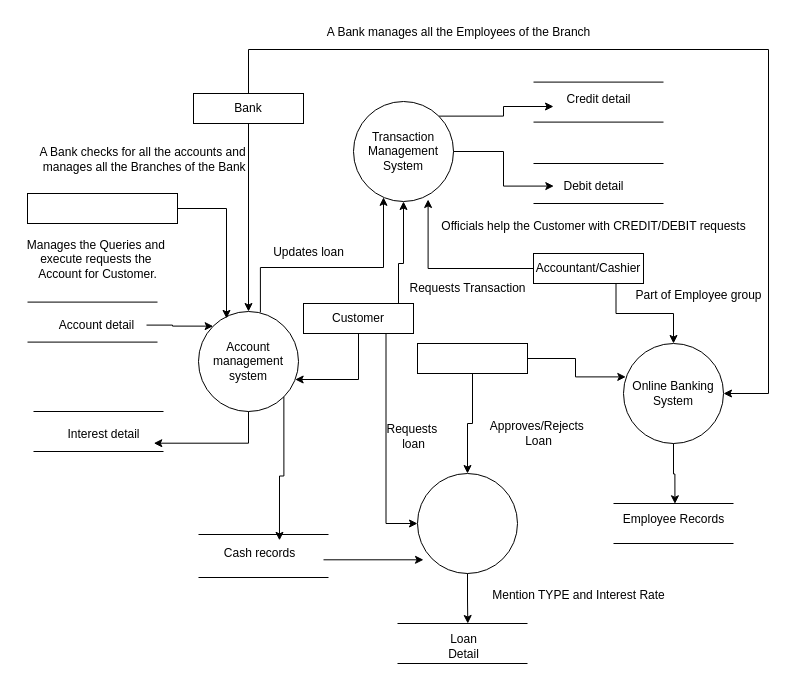
The diagram is 794 pixels wide and 683 high, and some of its shapes have lost their labels. Here are the shapes that lost their labels. From the top down, the centre of each, then its label:
(102,208): Account/Cashier
(472,358): Manager
(467,523): Loan Management System
